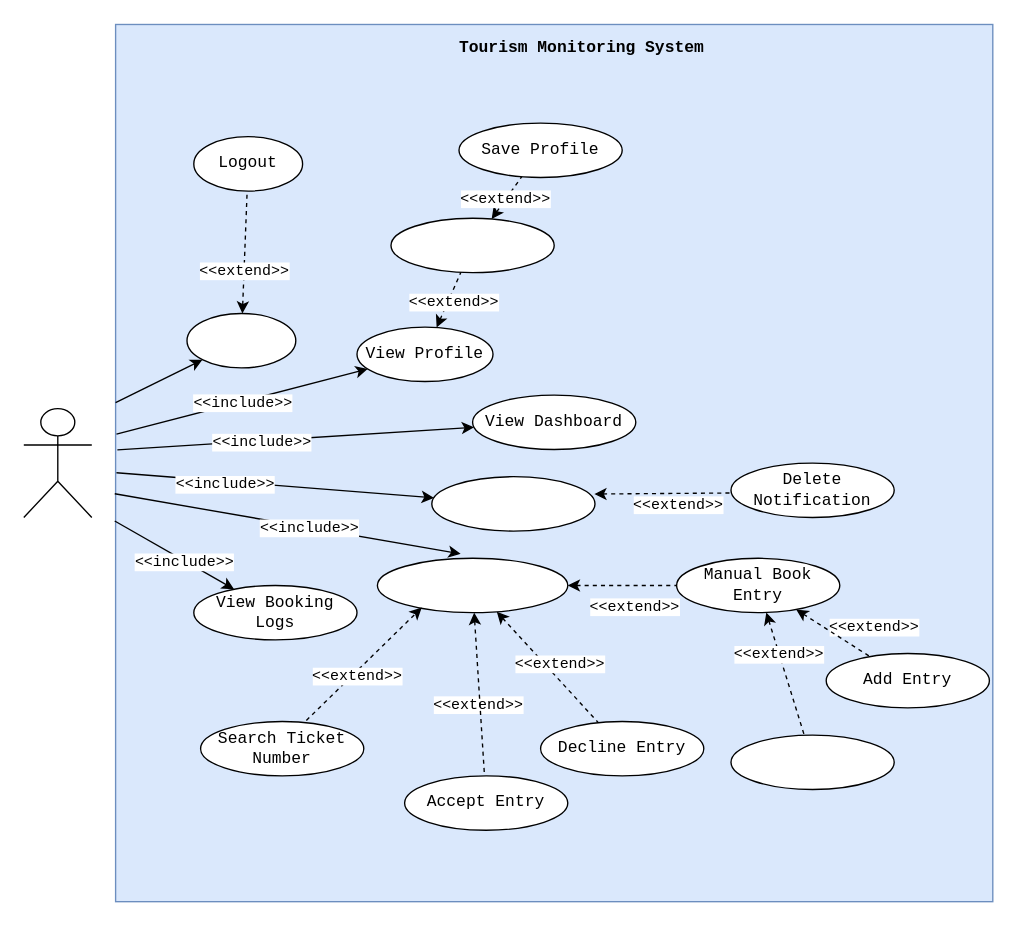
This 1017x925 diagram has some shape labels left out. The shapes that lost their labels are listed below. From the top down, each one's box as (x1, y1, x2, y2) in pixels, then its label:
(390, 217, 554, 273): Edit Profile
(186, 312, 296, 368): Login
(22, 407, 92, 517): Staff
(430, 475, 595, 531): View Notification
(376, 557, 568, 613): Manage Booking Request
(730, 734, 894, 789): Add More
